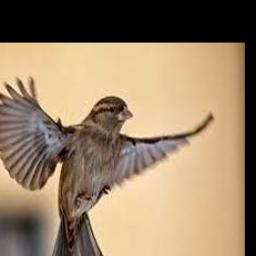Sparrow: (0, 76, 213, 256)
